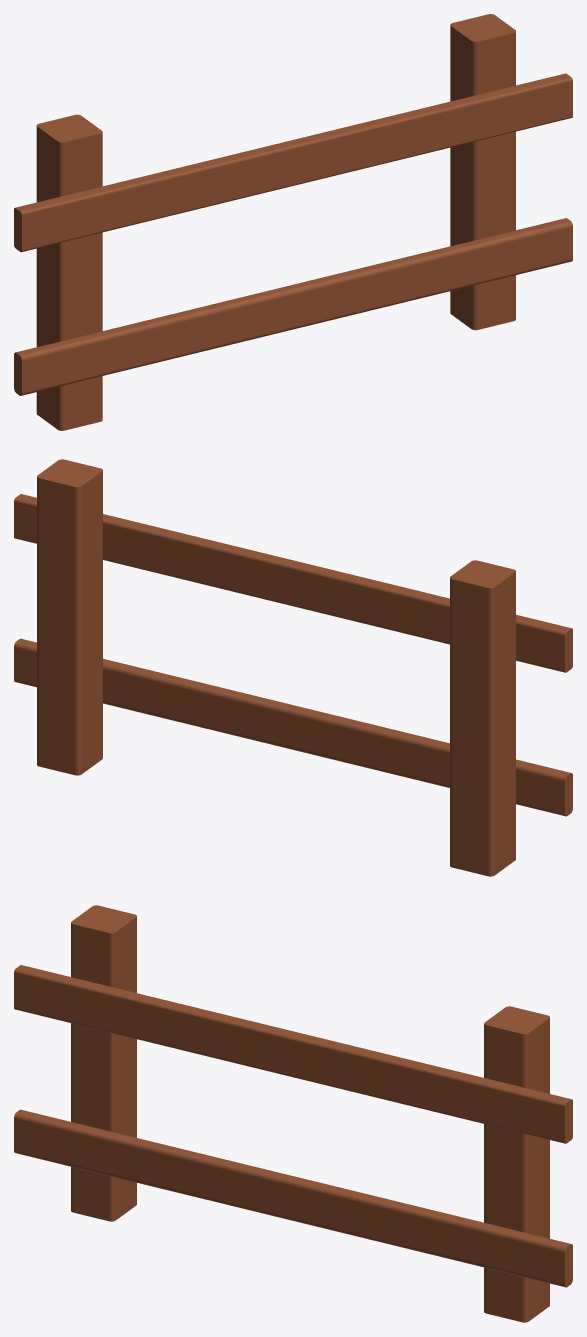
File: single_fence.glb
3 renders of one model, top to bottom at view 1: azimuth 30°, elevation 25°; view 2: azimuth 150°, elevation 25°; view 3: azimuth 330°, elevation 25°, orthographic.
Visible parts, largest first — view 1: Fence.002; view 2: Fence.002; view 3: Fence.002.
Boxes of the visible parts, x1=… form: Fence.002: x1=14, y1=14, x2=572, y2=430; Fence.002: x1=14, y1=459, x2=572, y2=876; Fence.002: x1=14, y1=905, x2=572, y2=1322.
Bounding box in the file's own units: 2 × 1 × 0.2128.
